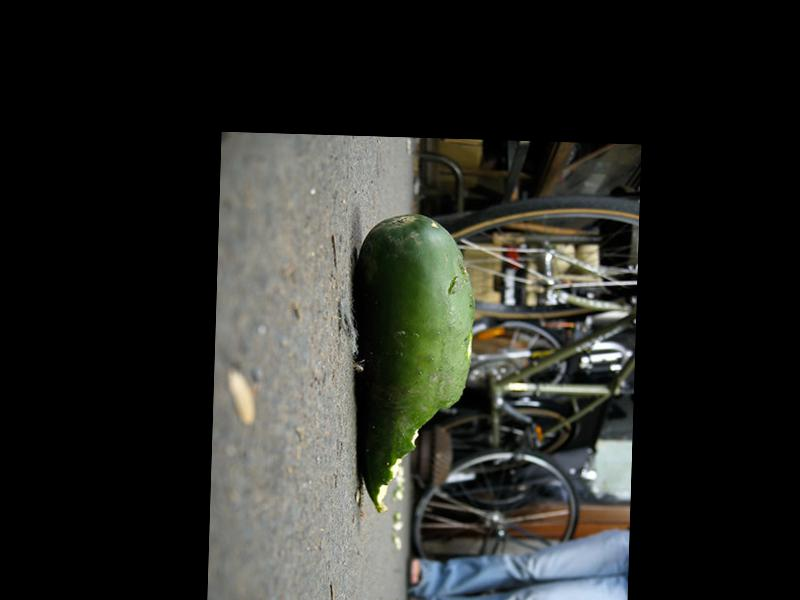Cucumber: (350, 213, 476, 519)
